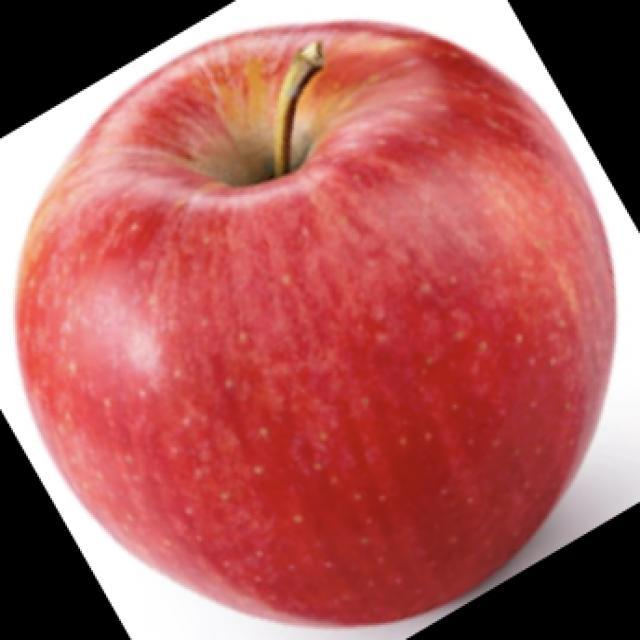Fresh Apple: (45, 31, 603, 602)
